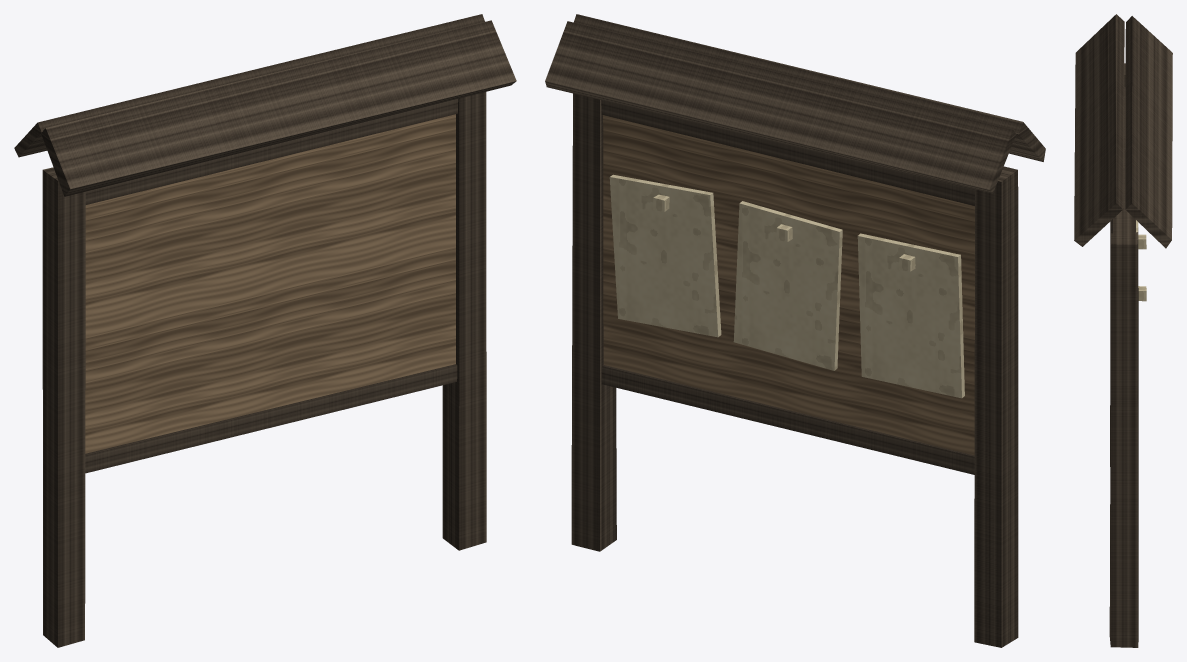
Rendered from bounty_board.glb.
3 views of the same model, side by side, from view 1: azimuth 30°, elevation 25°; view 2: azimuth 150°, elevation 25°; view 3: azimuth 270°, elevation 25° (orthographic). The views are drawn at different scales.
Parts seen in each view (by area): view 1: BountyBoard; view 2: BountyBoard, Notice1, Notice2, Notice3; view 3: BountyBoard, Notice2.
Part boxes in pixels (bbox=[...]): BountyBoard: bbox=[14, 14, 516, 647]; BountyBoard: bbox=[545, 14, 1045, 647]; Notice1: bbox=[609, 174, 721, 337]; Notice2: bbox=[733, 201, 842, 370]; Notice3: bbox=[857, 233, 964, 398]; BountyBoard: bbox=[1074, 14, 1172, 647]; Notice2: bbox=[1136, 220, 1146, 249].
Bounding box in the file's own units: 2.25 × 2.5 × 0.4966.
Materials: 3 (3 with a texture image).
